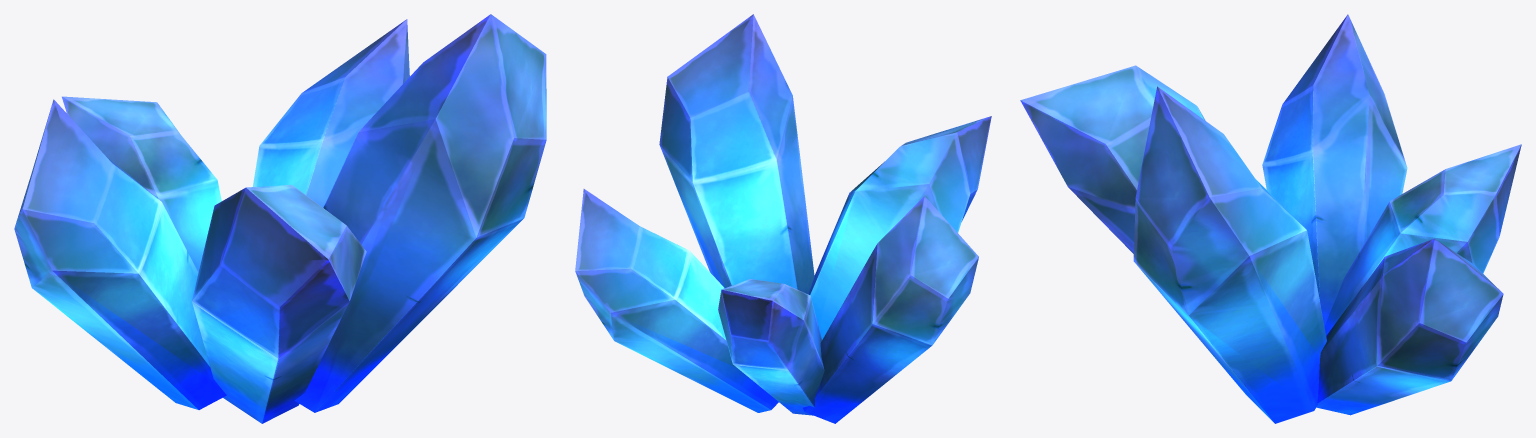
Rendered from cristais_azuis_2.glb.
3 views of the same model, side by side, from view 1: azimuth 30°, elevation 25°; view 2: azimuth 150°, elevation 25°; view 3: azimuth 270°, elevation 25° (orthographic). The views are drawn at different scales.
Visible parts, largest first — view 1: Crystal, Crystal.002, Crystal.001, Crystal.004, Crystal.003; view 2: Crystal, Crystal.004, Crystal.002, Crystal.001, Crystal.003; view 3: Crystal, Crystal.002, Crystal.004, Crystal.001, Crystal.003.
Part boxes in pixels (box(x1,y1,x2,y2)): Crystal: box(294, 14, 546, 412); Crystal.002: box(14, 99, 226, 409); Crystal.001: box(192, 184, 366, 423); Crystal.004: box(253, 19, 409, 207); Crystal.003: box(62, 96, 221, 272); Crystal: box(659, 14, 814, 293); Crystal.004: box(575, 189, 778, 412); Crystal.002: box(803, 196, 978, 423); Crystal.001: box(808, 116, 991, 339); Crystal.003: box(718, 279, 824, 415); Crystal: box(1133, 86, 1326, 423); Crystal.002: box(1262, 14, 1407, 326); Crystal.004: box(1316, 238, 1503, 415); Crystal.001: box(1020, 65, 1205, 253); Crystal.003: box(1324, 144, 1521, 335).
Size of the model in its own units: 328 by 282 by 338.
1 material, 1 textured.
